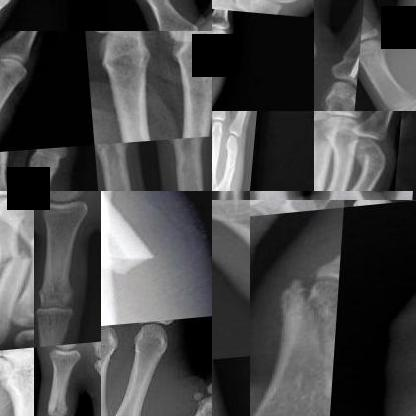fracture: (275, 270, 342, 398), (101, 215, 177, 296), (349, 0, 371, 86), (353, 139, 399, 179), (0, 245, 31, 286), (0, 164, 46, 190), (314, 0, 330, 52), (221, 150, 240, 182), (25, 227, 34, 264), (0, 153, 8, 188)
